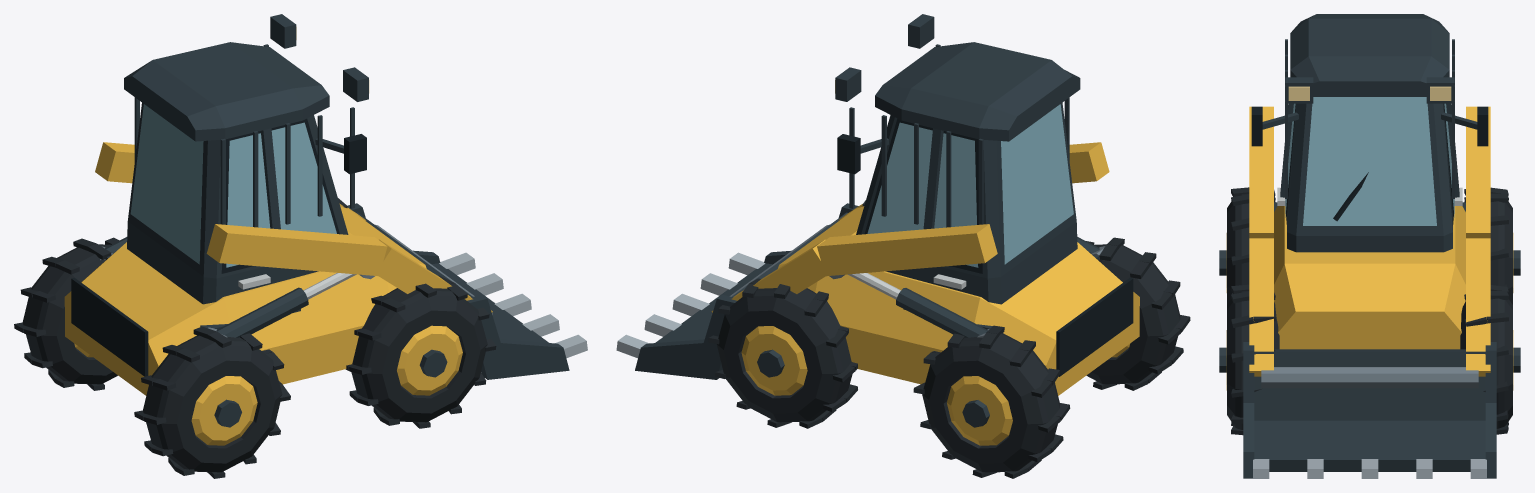
File: b07_wheeled_skid_steer_loader.glb
The picture shows the model from 3 angles, left to right: view 1: azimuth 30°, elevation 25°; view 2: azimuth 150°, elevation 25°; view 3: azimuth 270°, elevation 25°; orthographic projection. The views are drawn at different scales.
Visible parts, largest first — view 1: b07_wheeled_skid_steer_loader; view 2: b07_wheeled_skid_steer_loader; view 3: b07_wheeled_skid_steer_loader.
Part boxes in pixels (x1,y1,x2,y2): b07_wheeled_skid_steer_loader: [14, 14, 587, 478]; b07_wheeled_skid_steer_loader: [616, 14, 1190, 478]; b07_wheeled_skid_steer_loader: [1219, 14, 1520, 478].
Size of the model in its own units: 3.03 by 2.21 by 1.84.
